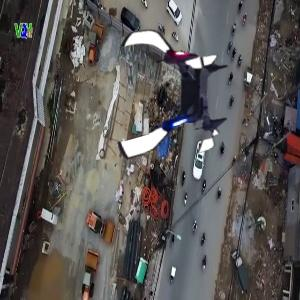drone: (99, 21, 242, 164)
